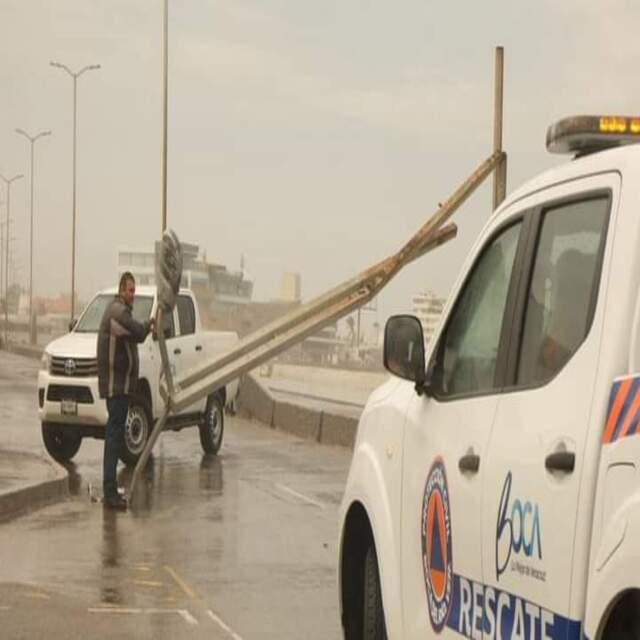Inclined Pole: (98, 145, 509, 519)
